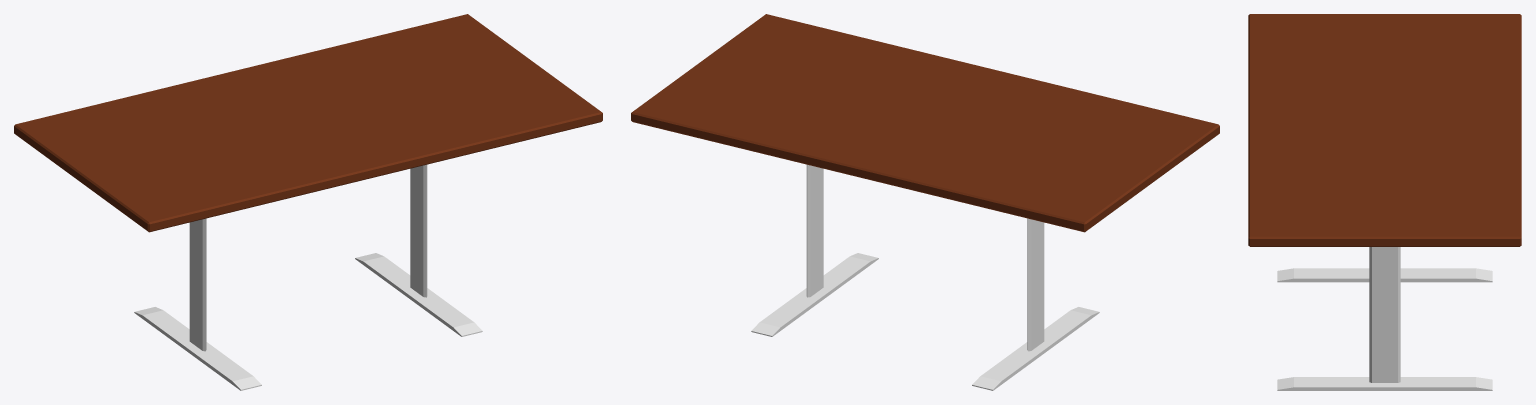
File: Prop_Desk_08.fbx
The picture shows the model from 3 angles, left to right: view 1: azimuth 30°, elevation 25°; view 2: azimuth 150°, elevation 25°; view 3: azimuth 270°, elevation 25°; orthographic projection.
Parts seen in each view (by area): view 1: Prop_Desk_08; view 2: Prop_Desk_08; view 3: Prop_Desk_08.
Boxes of the visible parts, bbox=[...] form: Prop_Desk_08: bbox=[14, 14, 602, 390]; Prop_Desk_08: bbox=[631, 14, 1219, 390]; Prop_Desk_08: bbox=[1248, 14, 1521, 390].
Size of the model in its own units: 184 by 78.91 by 94.77.
